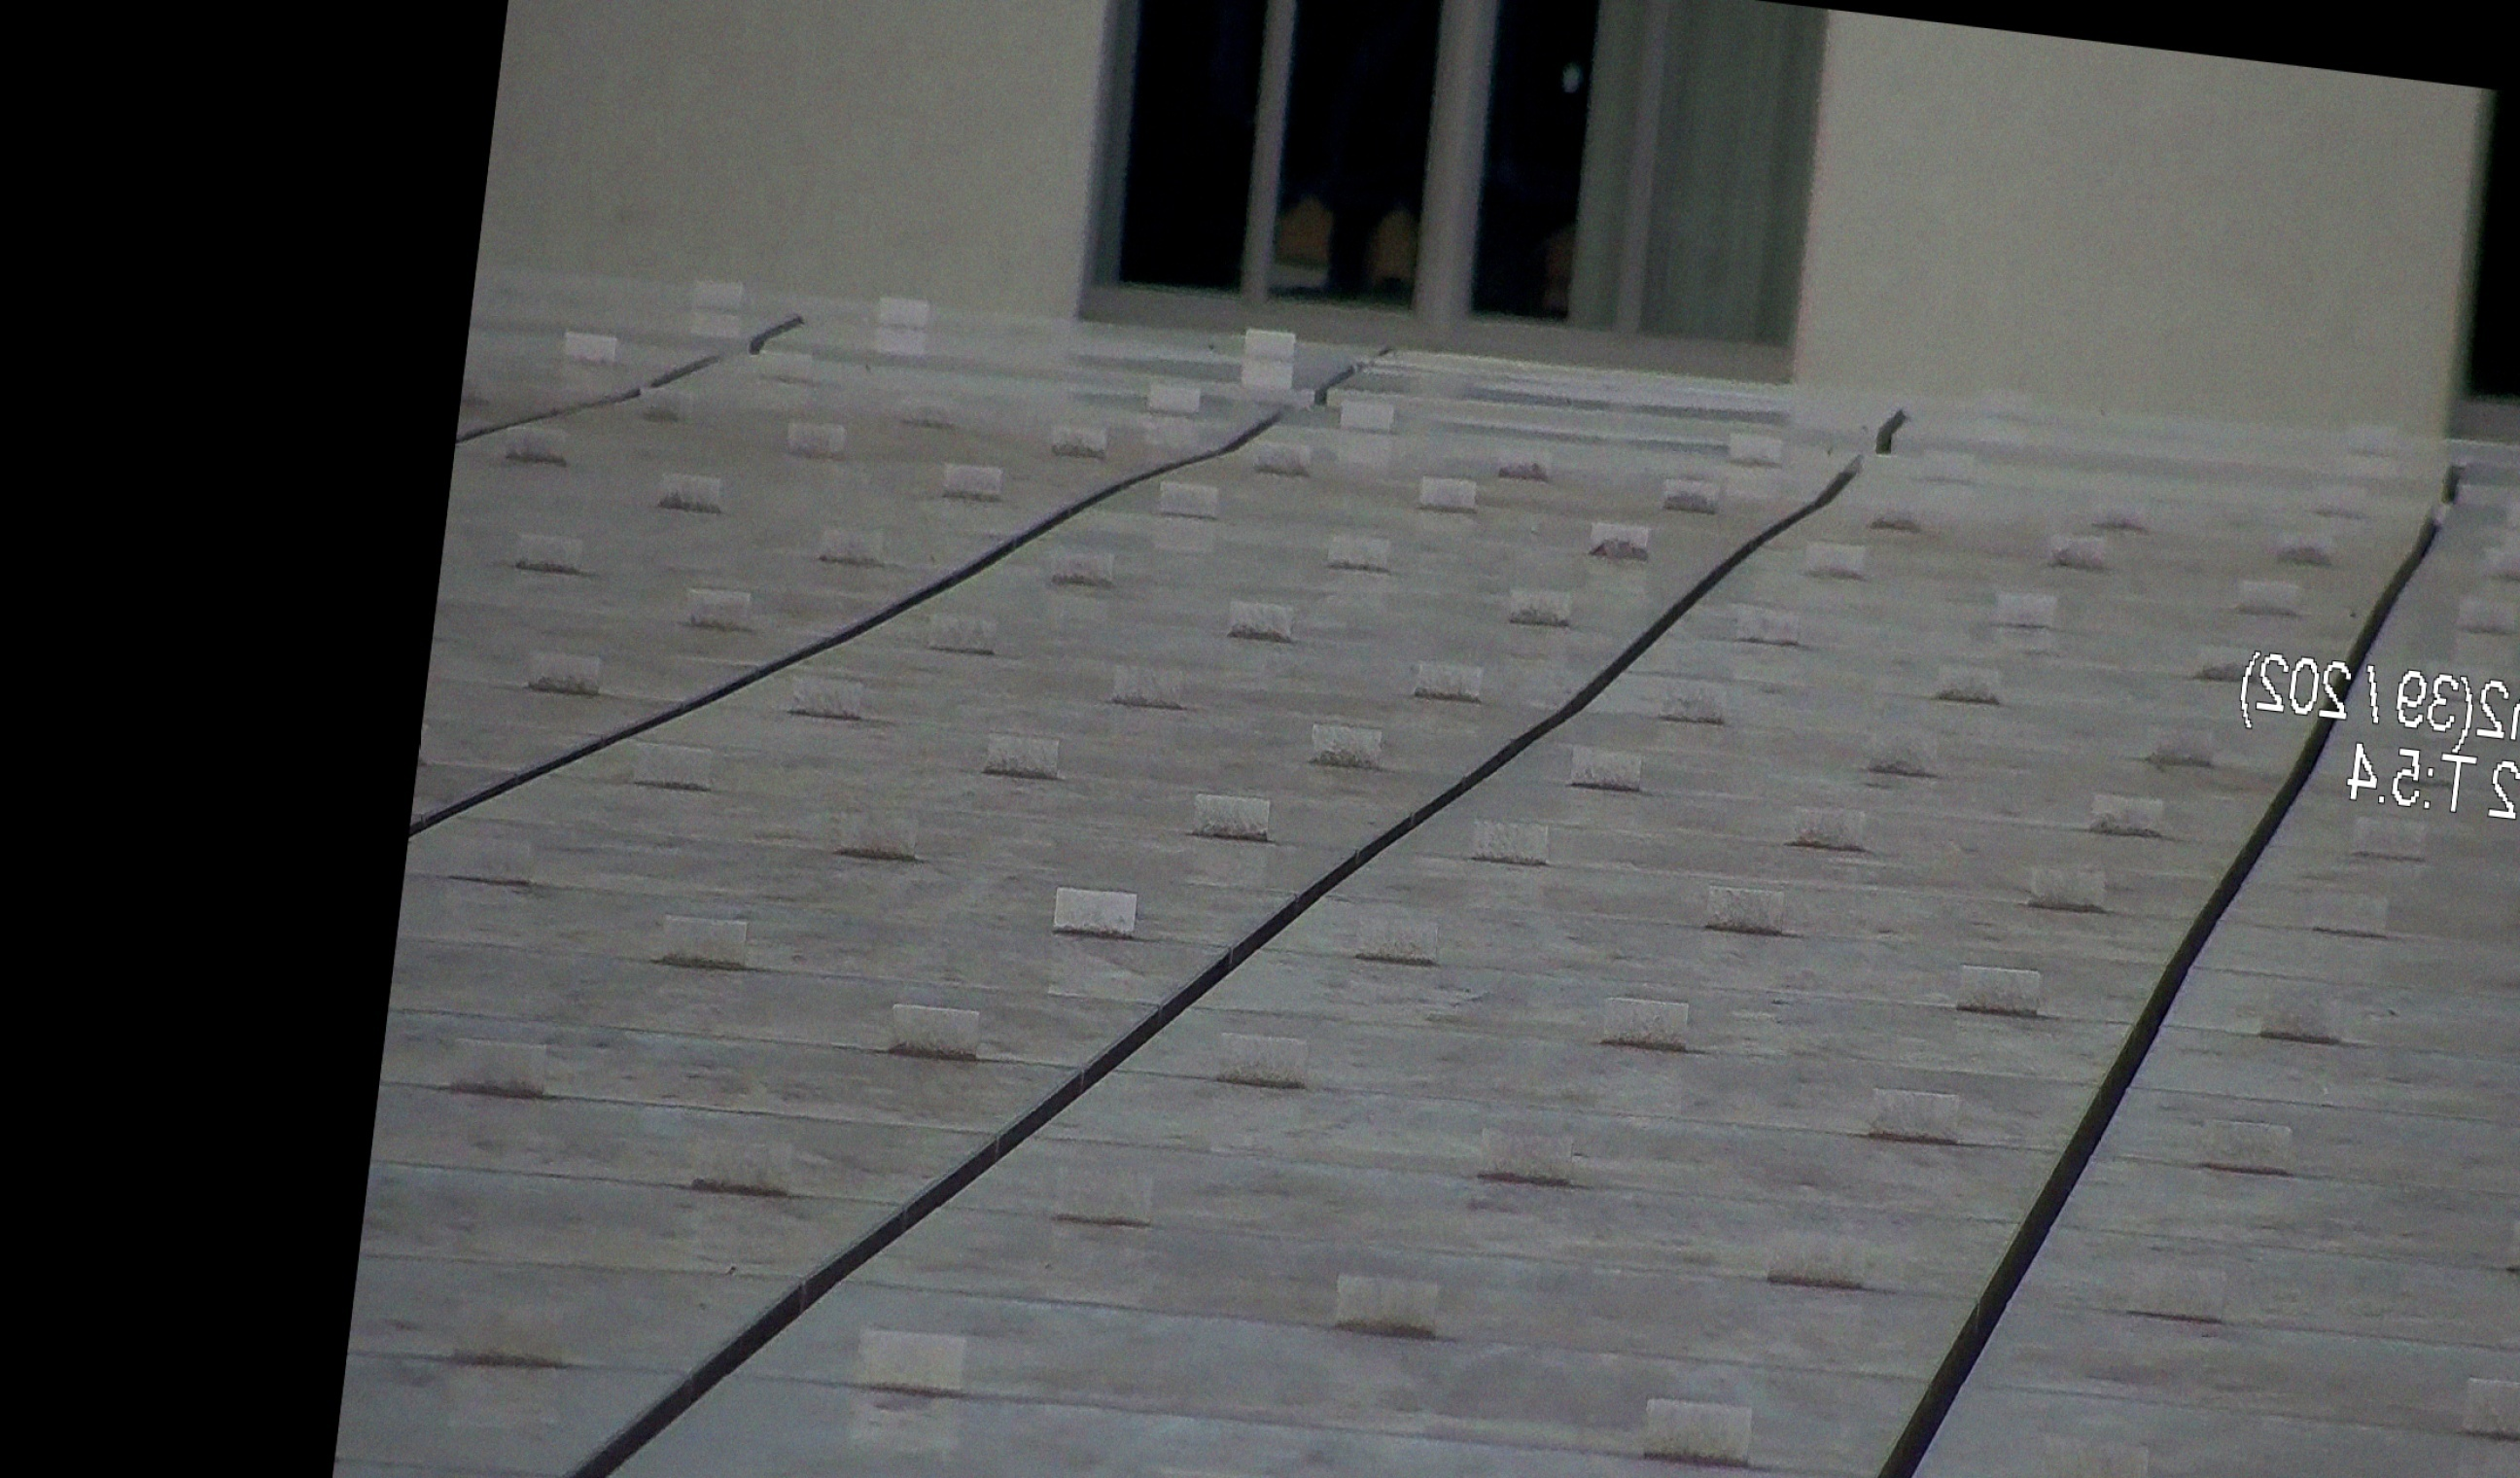Other: (2342, 457, 2492, 725)
